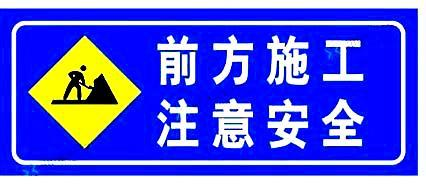sign: (7, 11, 412, 169)
